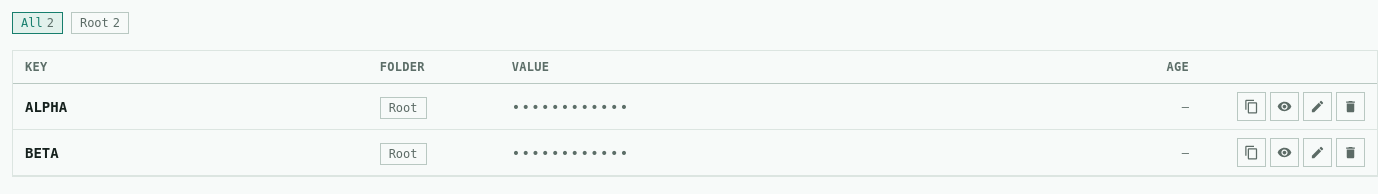
Vault reveal lifecycle › masks only the row whose mask button is clicked
Click the button named "Reveal ALPHA in Root": (1284, 106) [1270,92,1299,121]
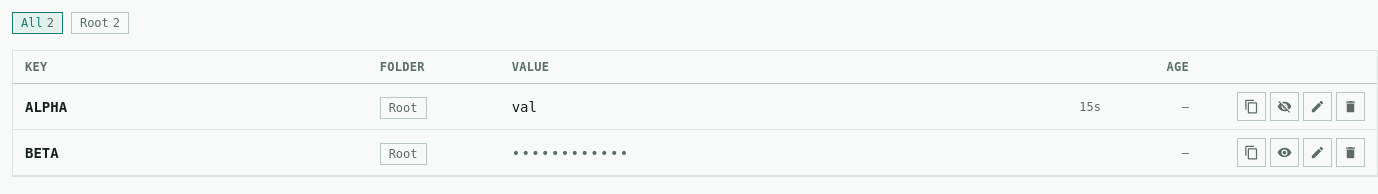
Click the button named "Reveal BETA in Root": (1284, 152) [1270,138,1299,167]
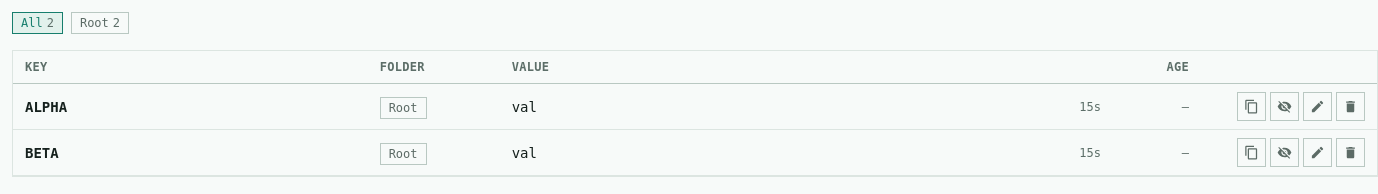
Check: the text "val" is shown 2 times, box [512,98,537,114]; [512,144,537,160]
Click the button named "Mask ALPHA in Root": (1284, 106) [1270,92,1299,121]
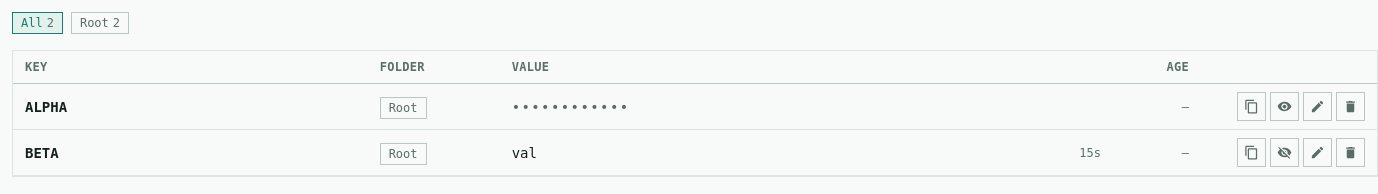
Check: the text "val" is shown once, box [512,144,537,160]
Check: the button named "Mask BETA in Root" is shown, box [1270,138,1299,167]
Check: the button named "Reveal ALPHA in Root" is shown, box [1270,92,1299,121]
